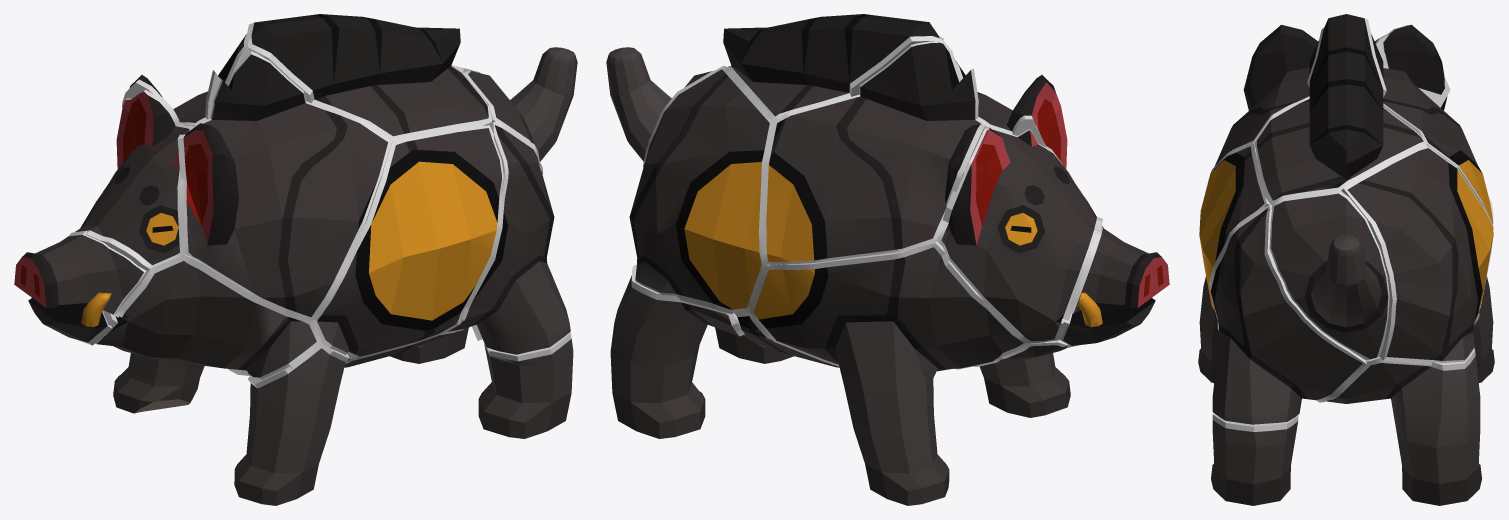
File: v17_boar.fbx
3 renders of one model, left to right at view 1: azimuth 30°, elevation 25°; view 2: azimuth 150°, elevation 25°; view 3: azimuth 270°, elevation 25°, orthographic. The views are drawn at different scales.
Visible parts, largest first — view 1: shard6, shard5, shard7, shard12, shard9, shard4, shard13, shard14, shard1, shard8, shard2, gold6 (+9 smaller); view 2: shard2, shard15, shard10, shard13, shard7, shard3, shard14, shard4, shard8, shard6, gold15, gold2 (+7 smaller); view 3: shard10, shard9, shard7, shard8, shard3, shard15, shard6, shard1, shard5, gold10, gold9, shard2 (+8 smaller).
Boxes of the visible parts, x1=… form: shard6: x1=183, y1=54, x2=388, y2=317; shard5: x1=317, y1=128, x2=501, y2=356; shard7: x1=251, y1=14, x2=488, y2=136; shard12: x1=97, y1=261, x2=316, y2=377; shard9: x1=447, y1=125, x2=570, y2=354; shard4: x1=234, y1=348, x2=349, y2=505; shard13: x1=75, y1=91, x2=189, y2=265; shard14: x1=14, y1=234, x2=143, y2=342; shard1: x1=478, y1=339, x2=573, y2=438; shard8: x1=468, y1=47, x2=577, y2=161; shard2: x1=113, y1=353, x2=204, y2=413; gold6: x1=177, y1=51, x2=392, y2=320; shard2: x1=753, y1=247, x2=1023, y2=505; shard15: x1=766, y1=42, x2=981, y2=262; shard10: x1=629, y1=69, x2=769, y2=309; shard13: x1=941, y1=128, x2=1096, y2=340; shard7: x1=723, y1=14, x2=939, y2=116; shard3: x1=610, y1=275, x2=738, y2=438; shard14: x1=1063, y1=226, x2=1169, y2=345; shard4: x1=979, y1=353, x2=1070, y2=417; shard8: x1=606, y1=47, x2=731, y2=161; shard6: x1=956, y1=61, x2=1067, y2=168; gold15: x1=761, y1=38, x2=987, y2=265; gold2: x1=750, y1=241, x2=1025, y2=369; shard10: x1=1347, y1=148, x2=1493, y2=360; shard9: x1=1210, y1=208, x2=1362, y2=424; shard7: x1=1257, y1=14, x2=1423, y2=200; shard8: x1=1271, y1=193, x2=1388, y2=359; shard3: x1=1326, y1=323, x2=1481, y2=505; shard15: x1=1371, y1=24, x2=1492, y2=224; shard6: x1=1214, y1=24, x2=1318, y2=166; shard1: x1=1211, y1=420, x2=1298, y2=505; shard5: x1=1199, y1=146, x2=1264, y2=325; gold10: x1=1341, y1=145, x2=1492, y2=365; gold9: x1=1209, y1=205, x2=1366, y2=402; shard2: x1=1473, y1=232, x2=1494, y2=382.
Size of the model in its own units: 15.55 by 11.12 by 7.86.
